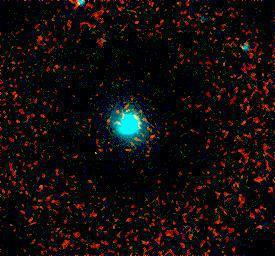star: (87, 25, 117, 55)
